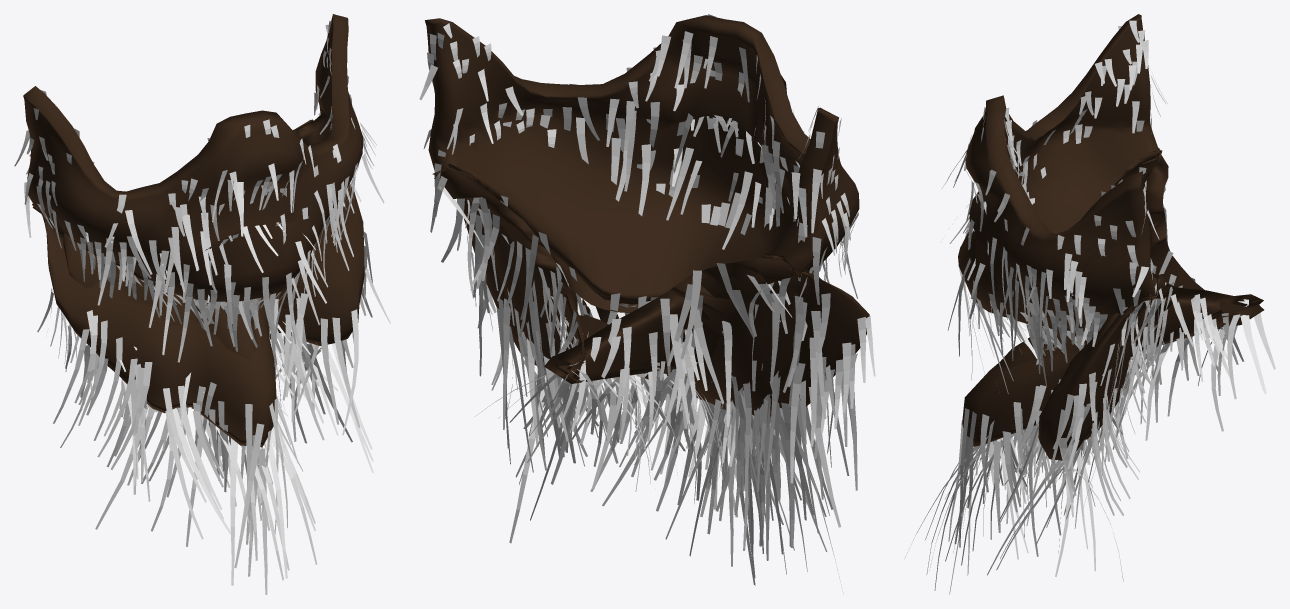
File: beard-berserker-short.glb
The picture shows the model from 3 angles, left to right: view 1: azimuth 30°, elevation 25°; view 2: azimuth 150°, elevation 25°; view 3: azimuth 270°, elevation 25°; orthographic projection. The views are drawn at different scales.
Visible parts, largest first — view 1: beard-berserker-short_1, beard__strands; view 2: beard-berserker-short_1, beard__strands; view 3: beard-berserker-short_1, beard__strands.
Boxes of the visible parts, bbox=[...] form: beard-berserker-short_1: bbox=[23, 14, 364, 447]; beard__strands: bbox=[14, 21, 390, 594]; beard-berserker-short_1: bbox=[425, 15, 869, 416]; beard__strands: bbox=[419, 14, 875, 594]; beard-berserker-short_1: bbox=[958, 14, 1263, 460]; beard__strands: bbox=[905, 20, 1275, 594].
Size of the model in its own units: 0.1771 by 0.2399 by 0.1598.
